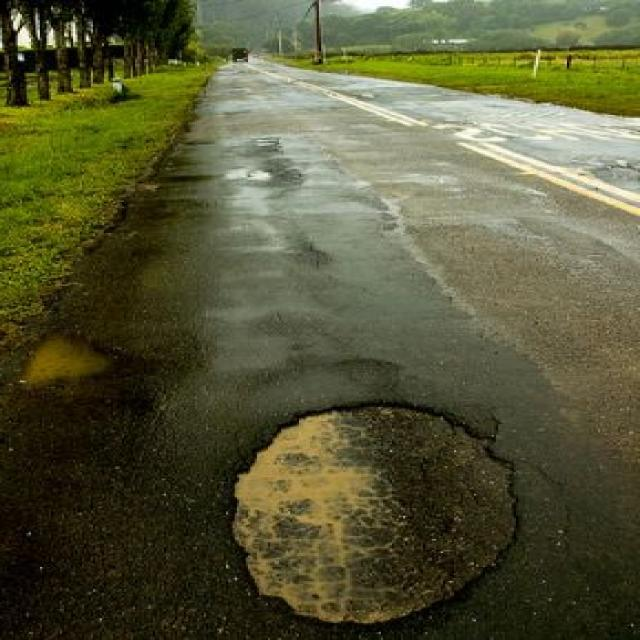Pothole: (225, 394, 529, 630)
